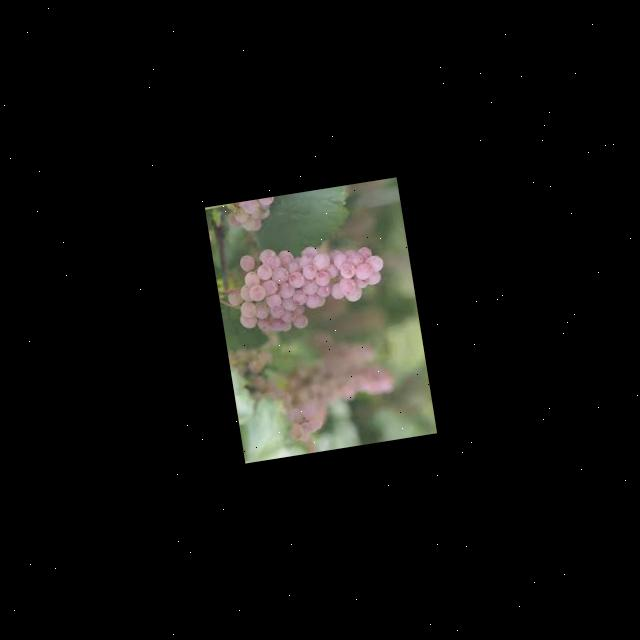grape: (219, 232, 390, 341)
